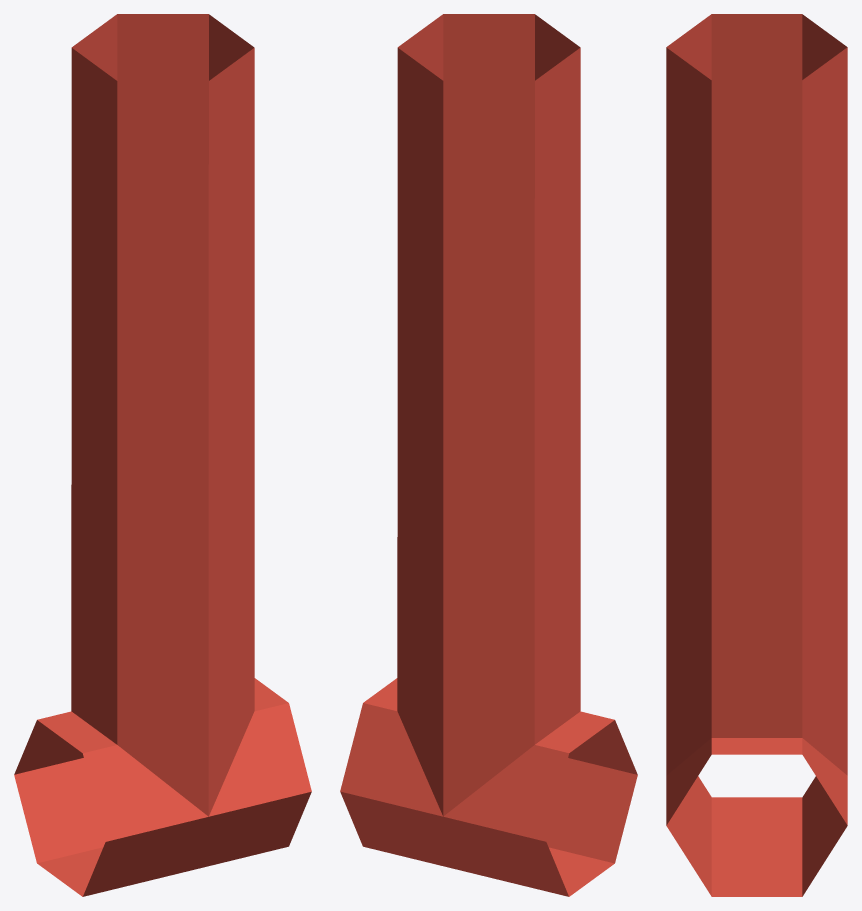
File: SM_Telehandler_Arm_Piston_End_B.fbx
3 renders of one model, left to right at view 1: azimuth 30°, elevation 25°; view 2: azimuth 150°, elevation 25°; view 3: azimuth 270°, elevation 25°, orthographic.
Visible parts, largest first — view 1: SM_Telehandler_Arm_Piston_End_B; view 2: SM_Telehandler_Arm_Piston_End_B; view 3: SM_Telehandler_Arm_Piston_End_B.
Boxes of the visible parts, x1,y1,x2,y2 form: SM_Telehandler_Arm_Piston_End_B: (14, 14, 311, 896); SM_Telehandler_Arm_Piston_End_B: (340, 14, 637, 896); SM_Telehandler_Arm_Piston_End_B: (666, 14, 847, 896).
Bounding box in the file's own units: 8.65 × 11.24 × 42.05.
